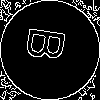B: (25, 25, 76, 65)
